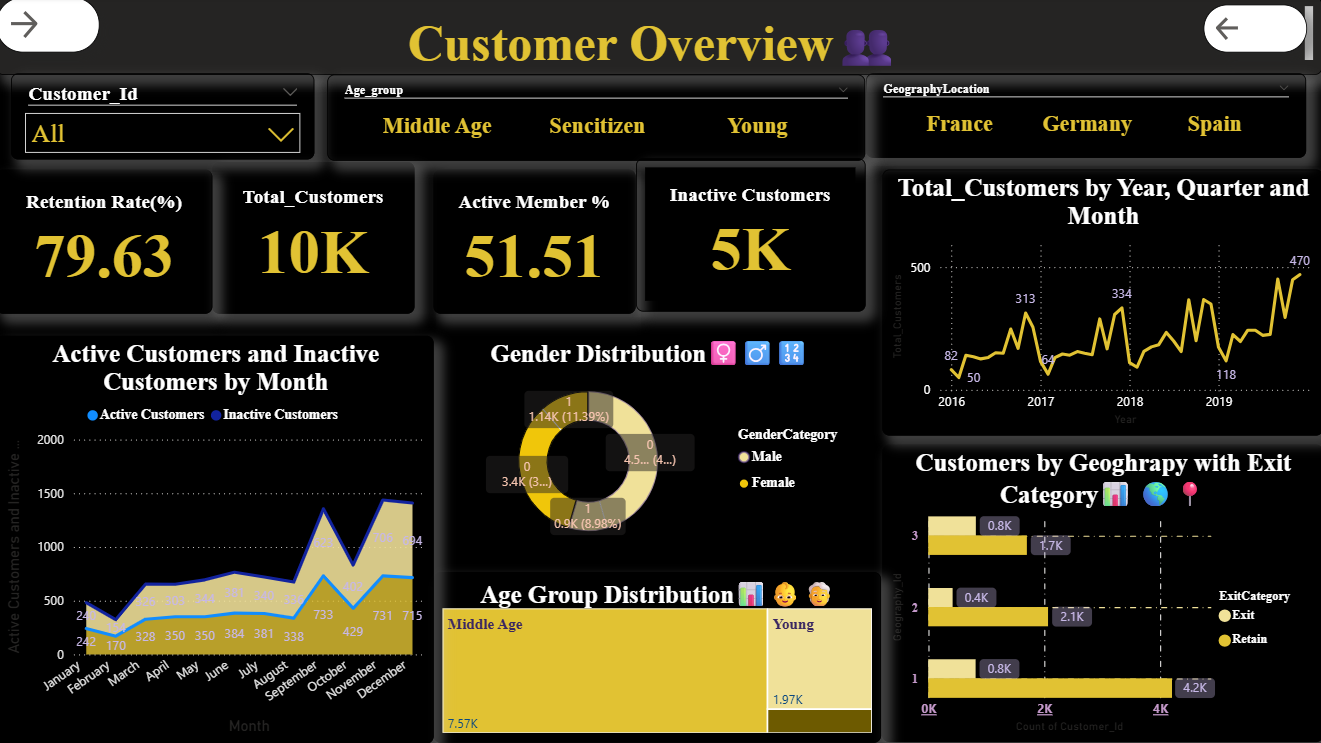

The dashboard page shown, as its layout file describes it:
{"tool":"powerbi","page":{"name":"Customer OverView","canvas":[1280,720],"ordinal":1},"visuals":[{"type":"cardVisual","fields":{"Data":["Bank_Churn.Total_Customers"]},"box":[209.2,159,195.3,146.4],"z":0},{"type":"cardVisual","fields":{"Data":["Bank_Churn.Retention Rate(%)"]},"box":[0,166,209.2,139.5],"z":1000},{"type":"textbox","box":[0,0,1280.3,75.5],"z":2000},{"type":"donutChart","title":"Gender Distribution♀️♂️🔢","fields":{"Category":["Gender.GenderCategory"],"Y":["CountNonNull(Bank_Churn.Customer_Id)"],"Series":["Bank_Churn.Exit_Id"]},"box":[422.6,326.3,417,216.2],"z":3000},{"type":"clusteredBarChart","title":"Customers by Geoghrapy with Exit Category📊 🌎📍","fields":{"Category":["Geography.Geography_Id"],"Y":["CountNonNull(Bank_Churn.Customer_Id)"],"Series":["ExitCustomer.ExitCategory"]},"box":[854.9,432.3,425.4,287.3],"z":4000},{"type":"treemap","title":"Age Group Distribution📊👶🧑🦳","fields":{"Group":["Bank_Churn.Age_group"],"Values":["CountNonNull(Bank_Churn.Customer_Id)"]},"box":[422.6,555.1,432.3,164.6],"z":5000},{"type":"slicer","fields":{"Values":["CustomerInfo.Customer_Id"]},"box":[13.9,73.6,293.1,83.3],"z":6000},{"type":"slicer","fields":{"Values":["Geography.GeographyLocation"]},"box":[840.3,73.6,425,81.9],"z":9000},{"type":"cardVisual","fields":{"Data":["Bank_Churn.Active Member %"]},"box":[422.6,166,195.3,139.5],"z":10000},{"type":"slicer","fields":{"Values":["Bank_Churn.Age_group"]},"box":[319.4,75,519.4,83.3],"z":11000},{"type":"lineChart","fields":{"Y":["Bank_Churn.Total_Customers"],"Category":["Bank_Churn.Bank DOJ.Variation.Date Hierarchy.Year","Bank_Churn.Bank DOJ.Variation.Date Hierarchy.Quarter","Bank_Churn.Bank DOJ.Variation.Date Hierarchy.Month"]},"box":[854.9,166,425.4,256.6],"z":12000},{"type":"stackedAreaChart","fields":{"Y":["Bank_Churn.Active Customers","Bank_Churn.Inactive Customers"],"Category":["Bank_Churn.Bank DOJ.Variation.Date Hierarchy.Month"]},"box":[0,326.3,422.6,393.3],"z":13000},{"type":"cardVisual","fields":{"Data":["Bank_Churn.Inactive Customers"]},"box":[617.8,156.2,221.7,147.8],"z":14000},{"type":"actionButton","box":[0,0,100.2,53.5],"z":15000},{"type":"actionButton","box":[1165,6.9,100.2,46.7],"z":16000}]}

Visuals, with their boxes in screenshot pixels (x1, y1, x2, y2), scaled from the page's 1280x720 canvas onto the 1321x743 screenshot:
cardVisual - Bank_Churn.Total_Customers: 216, 164, 417, 315
cardVisual - Bank_Churn.Retention Rate(%): 0, 171, 216, 315
textbox: 0, 0, 1320, 78
"Gender Distribution♀️♂️🔢" donutChart: 436, 337, 866, 560
"Customers by Geoghrapy with Exit Category📊 🌎📍" clusteredBarChart: 882, 446, 1320, 742
"Age Group Distribution📊👶🧑🦳" treemap: 436, 573, 882, 742
slicer - CustomerInfo.Customer_Id: 14, 76, 317, 162
slicer - Geography.GeographyLocation: 867, 76, 1306, 160
cardVisual - Bank_Churn.Active Member %: 436, 171, 638, 315
slicer - Bank_Churn.Age_group: 330, 77, 866, 163
lineChart - Bank_Churn.Total_Customers x Bank_Churn.Bank DOJ.Variation.Date Hierarchy.Year: 882, 171, 1320, 436
stackedAreaChart - Bank_Churn.Active Customers x Bank_Churn.Inactive Customers: 0, 337, 436, 742
cardVisual - Bank_Churn.Inactive Customers: 638, 161, 866, 314
actionButton: 0, 0, 103, 55
actionButton: 1202, 7, 1306, 55
